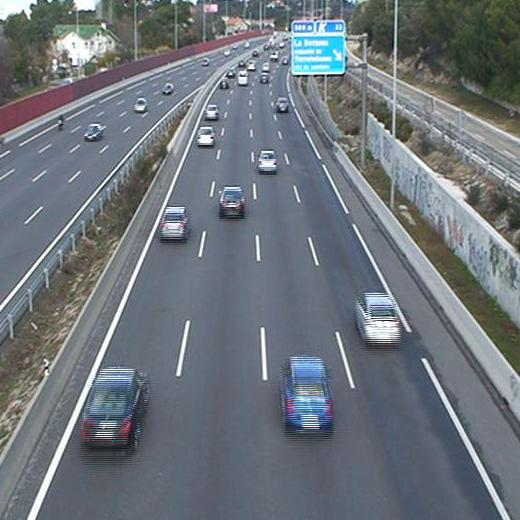car: (84, 374, 146, 449), (282, 359, 335, 433), (357, 293, 401, 343), (160, 208, 188, 238), (219, 187, 245, 216), (258, 150, 276, 172), (196, 127, 215, 146), (205, 106, 220, 121), (276, 98, 290, 112), (219, 79, 230, 91), (259, 73, 269, 84)
van: (237, 72, 248, 87)
